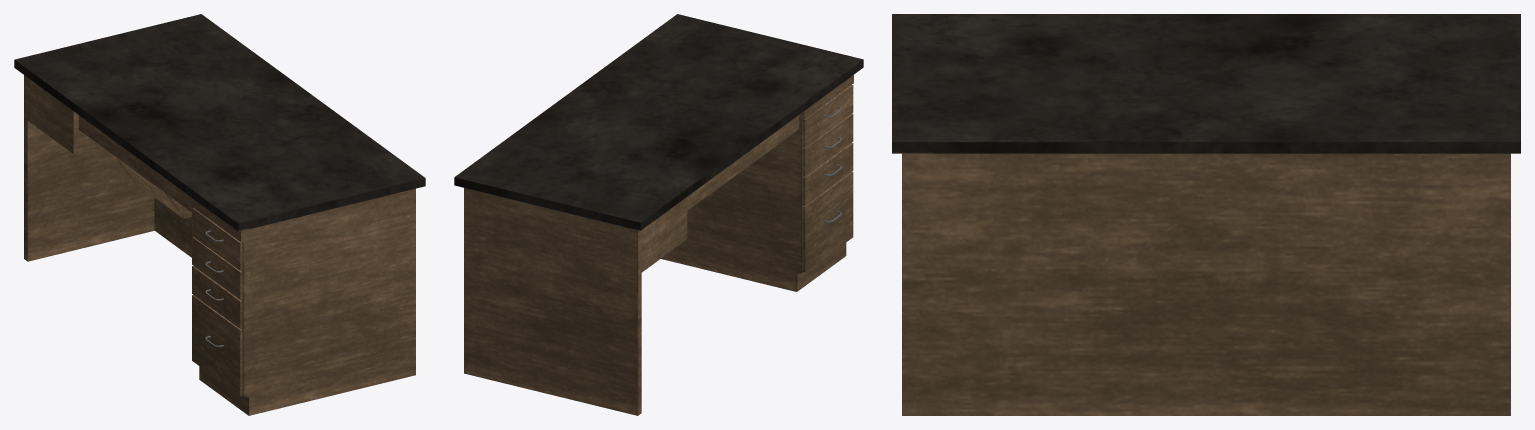
The model's file is ScienceTableSmallTextureResolution.glb.
The picture shows the model from 3 angles, left to right: view 1: azimuth 30°, elevation 25°; view 2: azimuth 150°, elevation 25°; view 3: azimuth 270°, elevation 25°; orthographic projection. The views are drawn at different scales.
Parts seen in each view (by area): view 1: TableCompressed; view 2: TableCompressed; view 3: TableCompressed.
Boxes of the visible parts, x1,y1,x2,y2 form: TableCompressed: (14,14,425,415); TableCompressed: (454,14,863,415); TableCompressed: (892,14,1520,415).
Size of the model in its own units: 10.06 by 10.13 by 20.75.
Materials: 1 (1 with a texture image).
